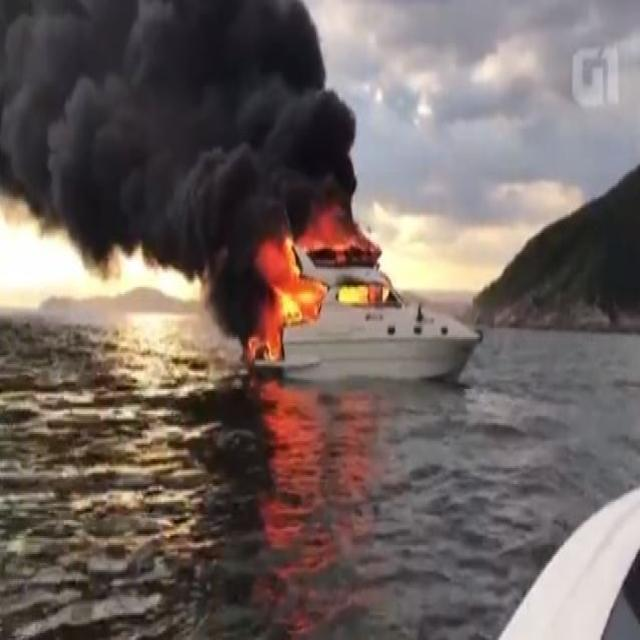Fire: (266, 217, 374, 371)
Smoke: (0, 0, 367, 272)
